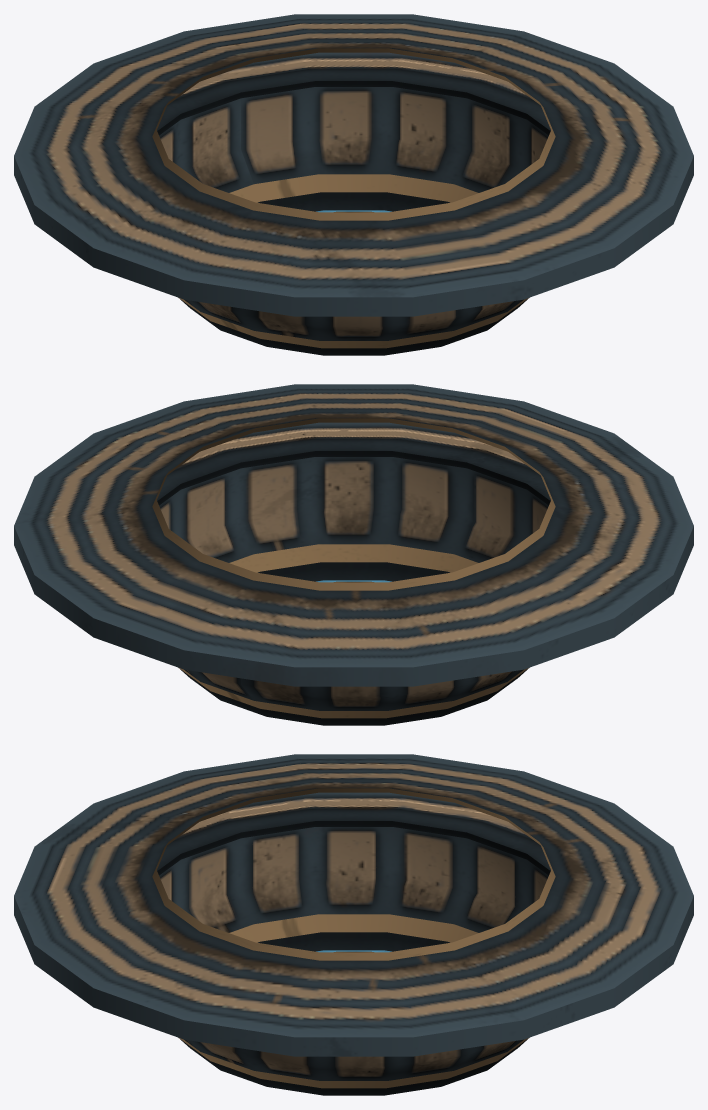
The model's file is Ceiling Light 4.fbx.
The picture shows the model from 3 angles, top to bottom: view 1: azimuth 30°, elevation 25°; view 2: azimuth 150°, elevation 25°; view 3: azimuth 270°, elevation 25°; orthographic projection.
Visible parts, largest first — view 1: Cylinder; view 2: Cylinder; view 3: Cylinder.
Part boxes in pixels (<box>): Cylinder: <box>14,14,693,355</box>; Cylinder: <box>14,384,693,725</box>; Cylinder: <box>14,754,693,1095</box>.
Size of the model in its own units: 80.59 by 21.55 by 81.84.
